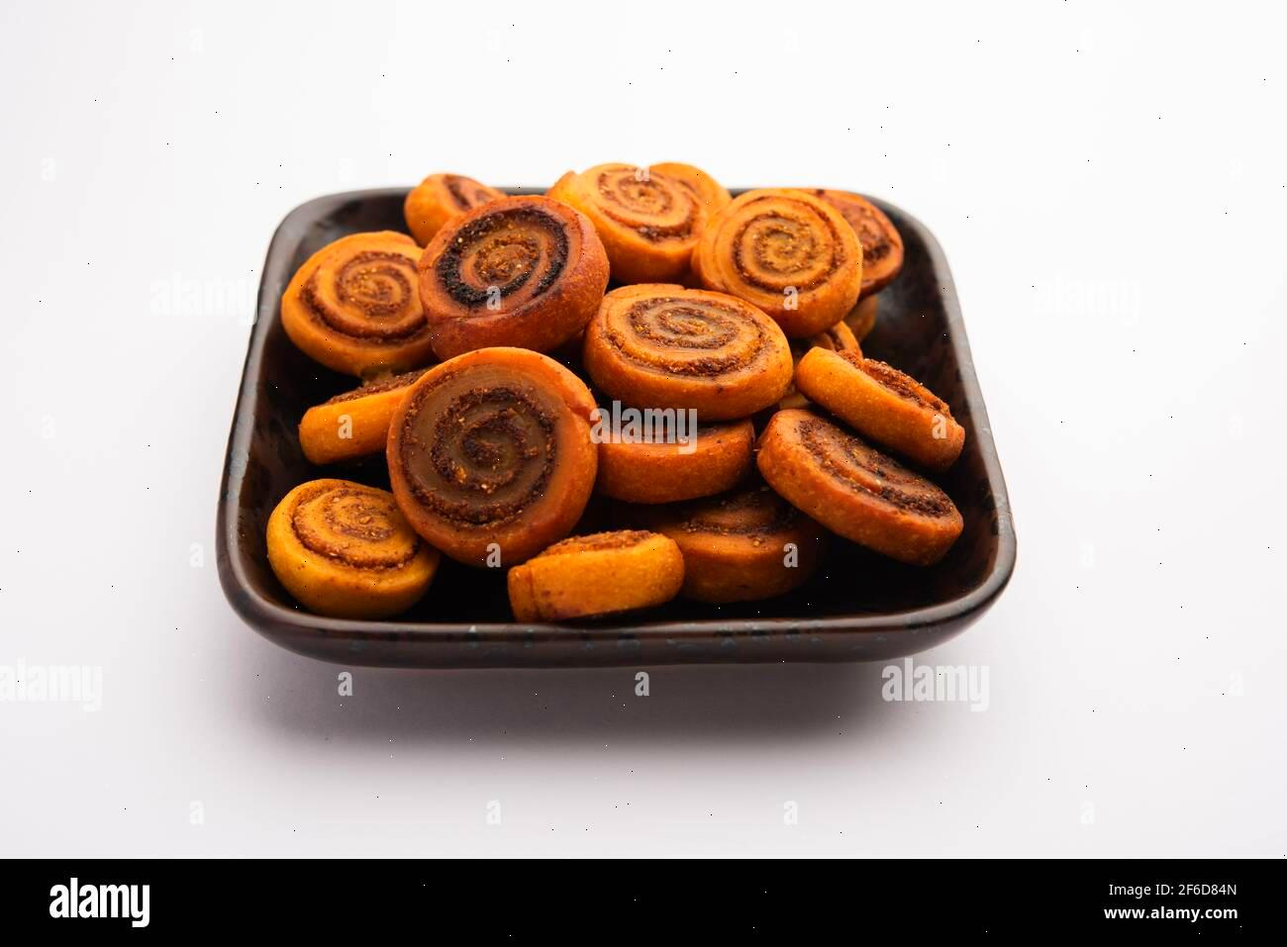bhakarwadi: (254, 164, 980, 658)
